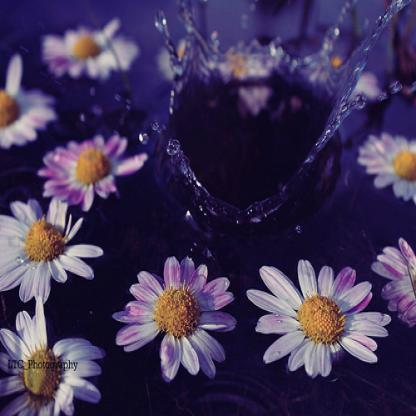ASTER: (7, 56, 410, 403)
